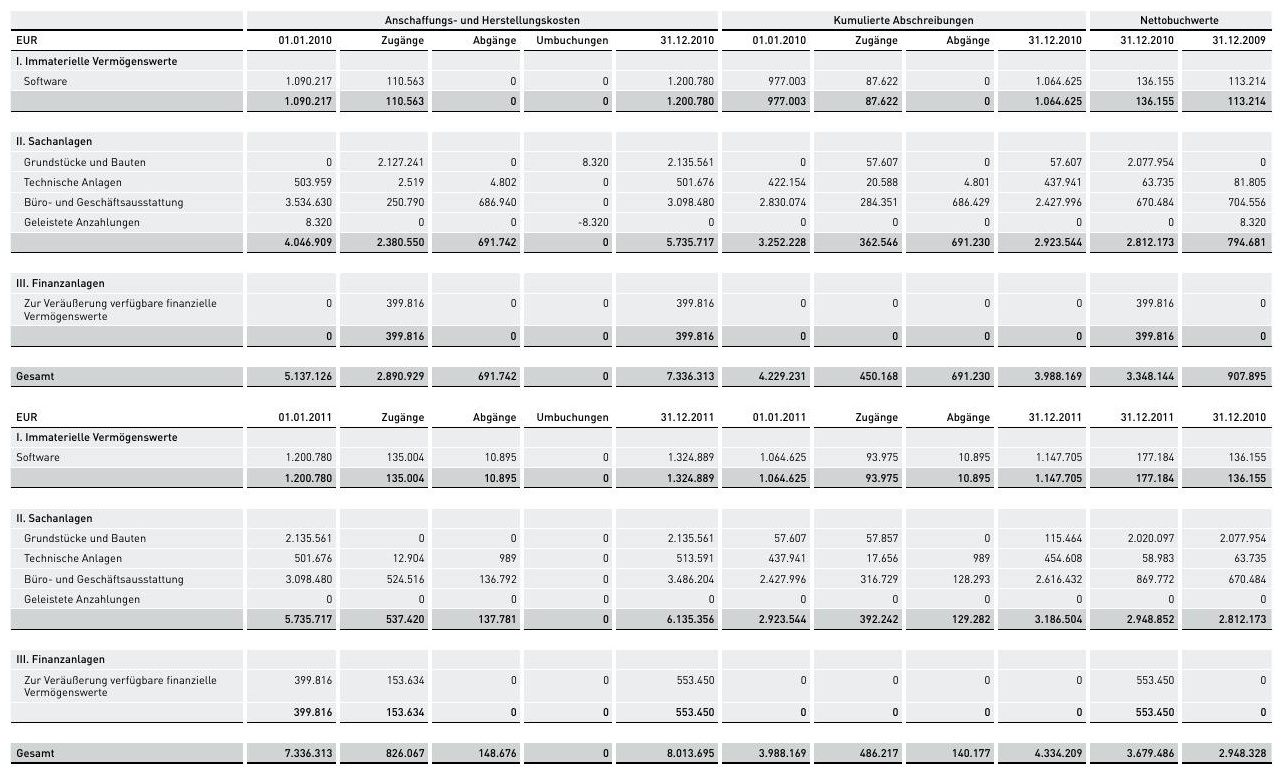table: (0, 0, 1286, 773)
